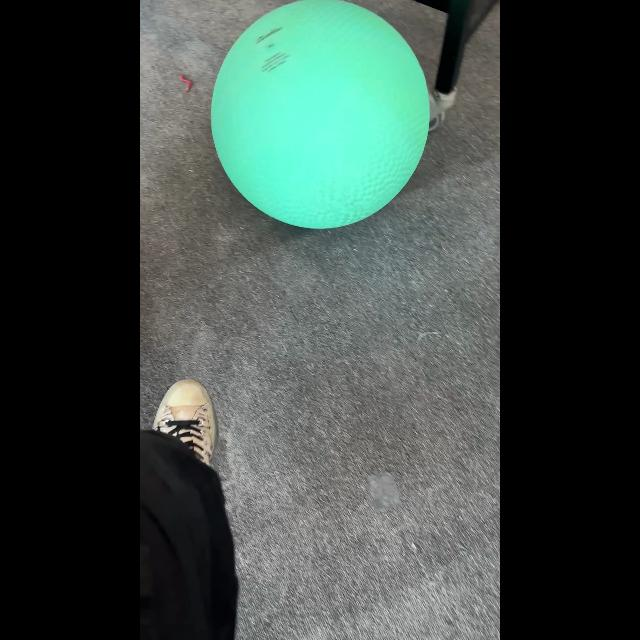ALGAE: (210, 1, 430, 230)
